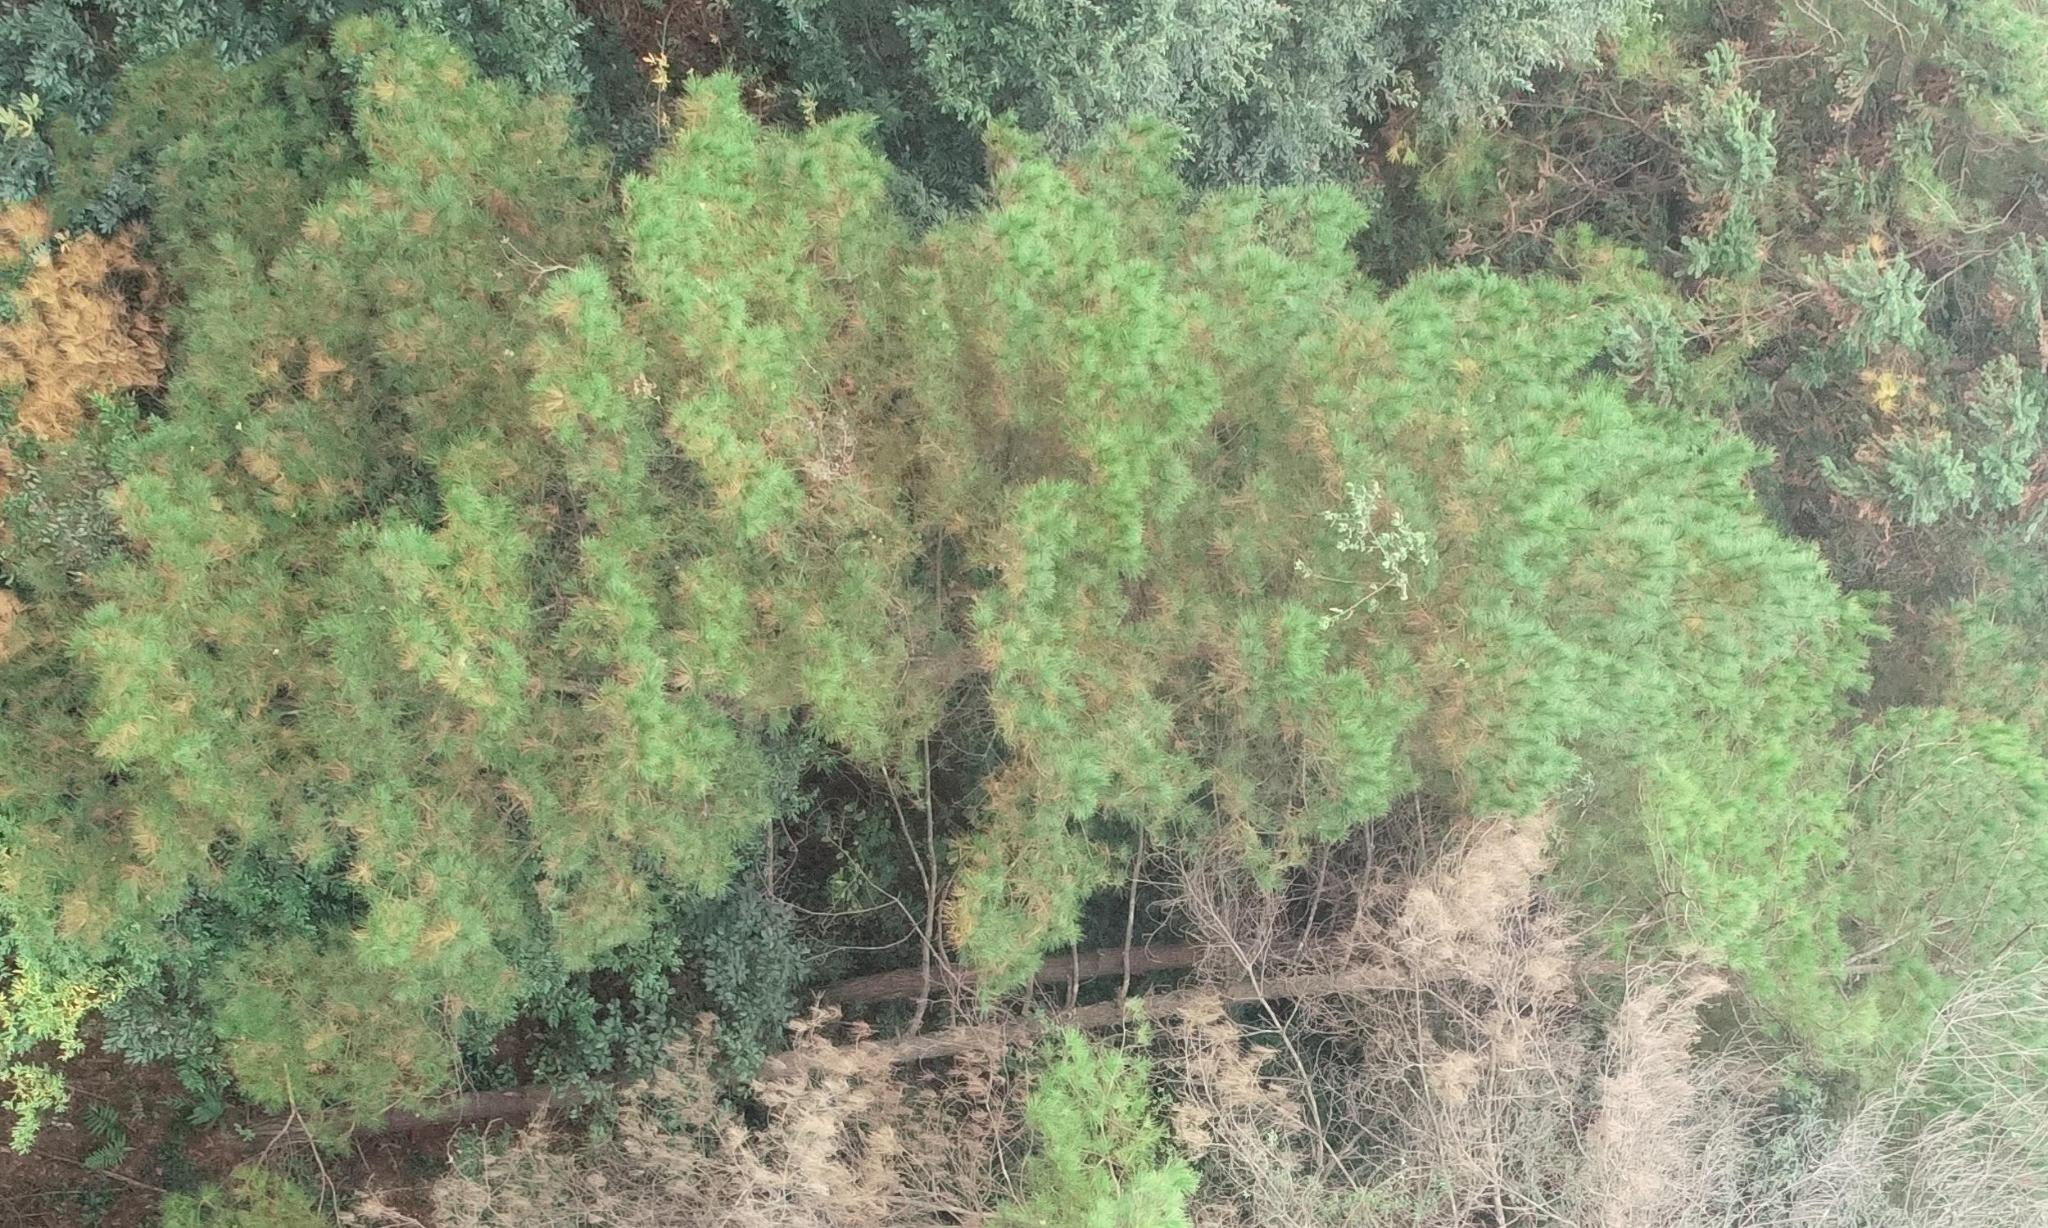dead: (1174, 960, 2047, 1228)
heavy: (403, 1012, 978, 1222), (4, 216, 161, 420)
light: (172, 73, 1408, 940)
